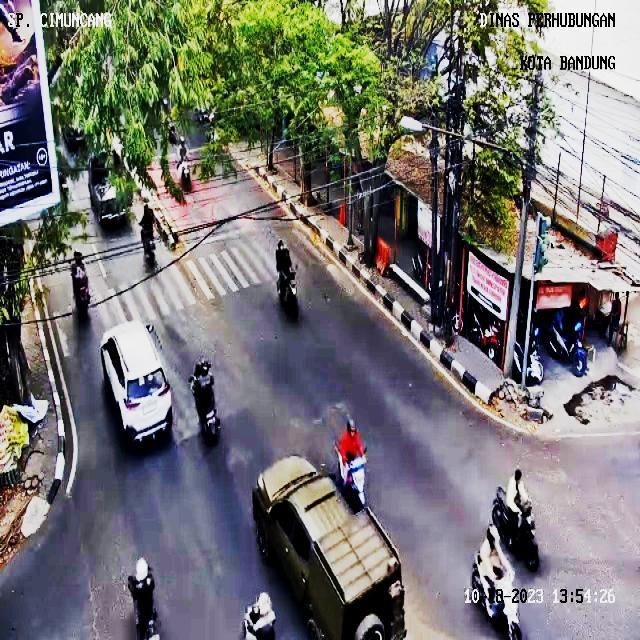car: (252, 458, 404, 640), (100, 321, 172, 442), (89, 152, 134, 228)
motorcyclist: (472, 524, 522, 639), (491, 469, 539, 571), (336, 416, 366, 511), (189, 360, 221, 446), (128, 558, 160, 639), (275, 240, 296, 319), (70, 251, 91, 321), (139, 201, 160, 271), (245, 592, 276, 639)
